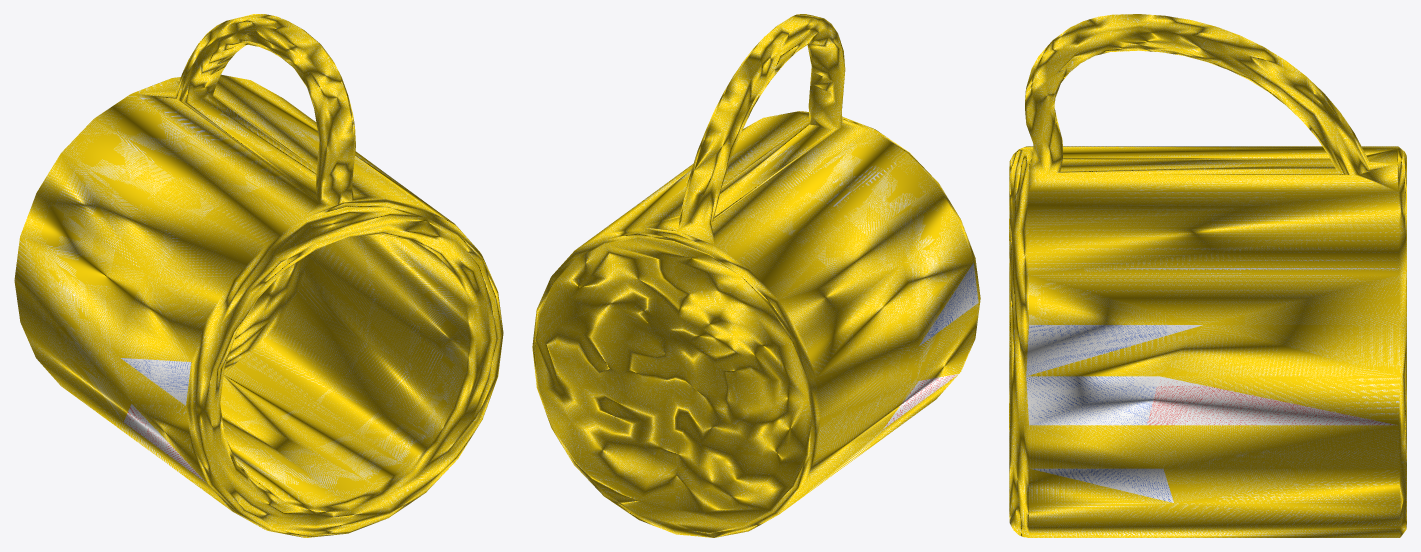
Rendered from model_align.obj.
The picture shows the model from 3 angles, left to right: view 1: azimuth 30°, elevation 25°; view 2: azimuth 150°, elevation 25°; view 3: azimuth 270°, elevation 25°; orthographic projection. The views are drawn at different scales.
Bounding box in the file's own units: 0.0816 × 0.1151 × 0.0826.
